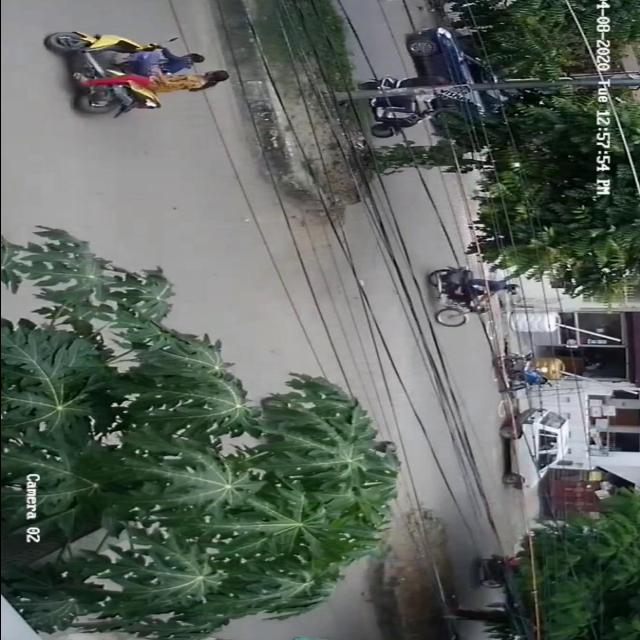accident: (24, 17, 240, 119)
